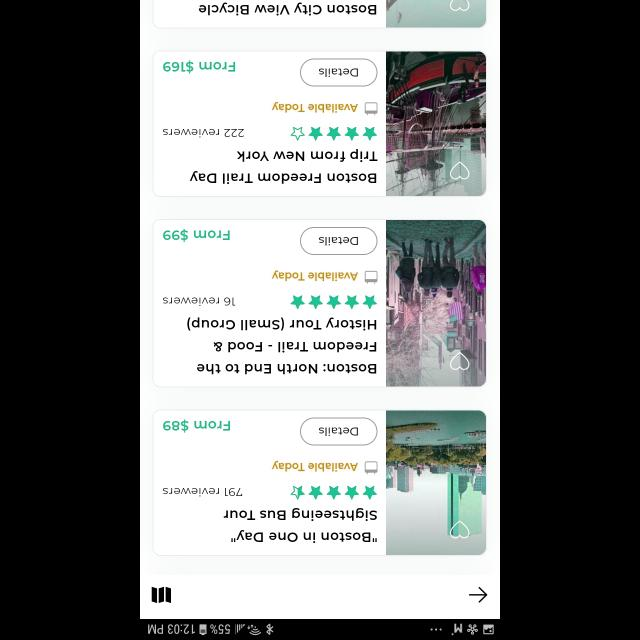icon: (290, 127, 378, 141), (290, 295, 378, 309), (291, 485, 377, 499), (450, 162, 470, 180), (450, 520, 470, 538), (449, 351, 468, 369), (468, 586, 488, 602), (151, 586, 171, 602), (449, 0, 468, 12), (364, 270, 378, 284), (364, 461, 378, 475), (364, 102, 376, 116)
image: (386, 220, 486, 386), (386, 410, 486, 554), (386, 52, 484, 196), (386, 0, 486, 28)
text: (187, 317, 377, 375), (190, 148, 378, 184), (223, 507, 377, 543), (199, 2, 377, 16), (272, 102, 358, 114), (271, 270, 357, 282), (163, 60, 235, 74), (162, 228, 230, 242), (272, 461, 358, 472), (162, 128, 244, 138), (162, 420, 230, 432), (162, 488, 242, 497), (163, 298, 235, 306)
textbutton: (299, 59, 377, 87), (299, 227, 377, 255), (299, 417, 377, 445)
uppertaskbar: (140, 618, 500, 640)
